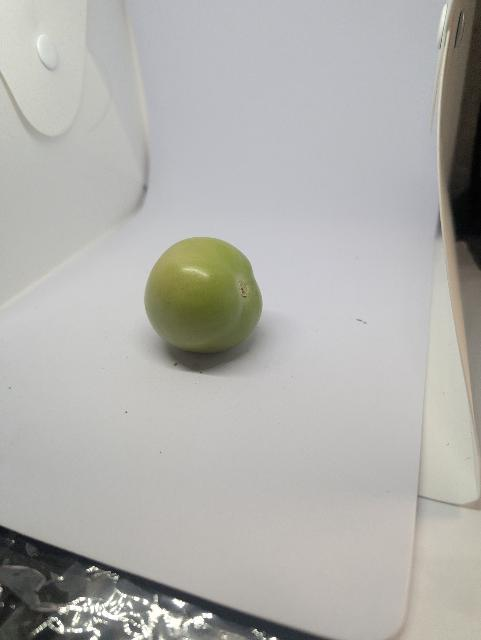green: (142, 234, 269, 355)
